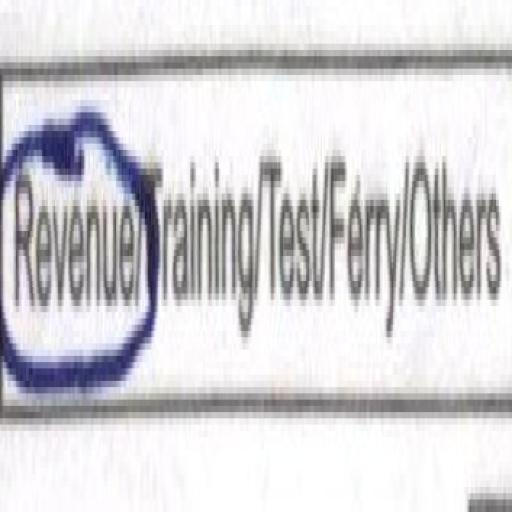check: (0, 0, 142, 490)
